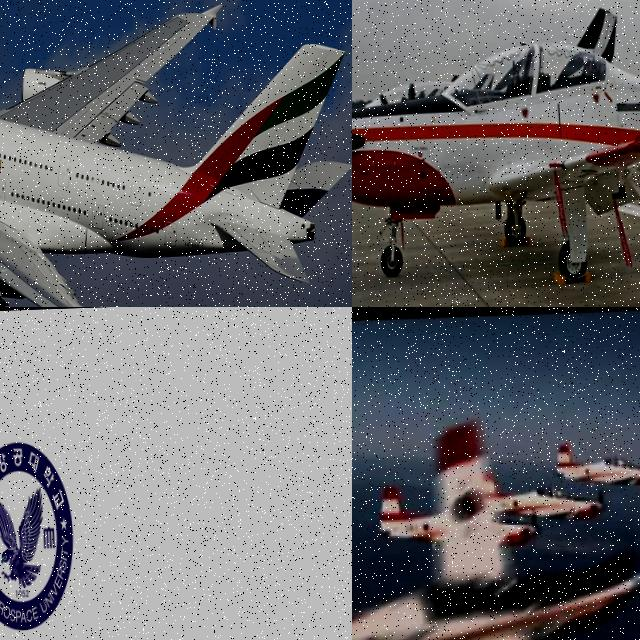A380: (0, 0, 352, 307)
KAU_Marker: (0, 436, 77, 629)
KT-1: (352, 0, 640, 290), (352, 416, 640, 640), (371, 478, 544, 562), (458, 470, 604, 526), (550, 442, 640, 500)
